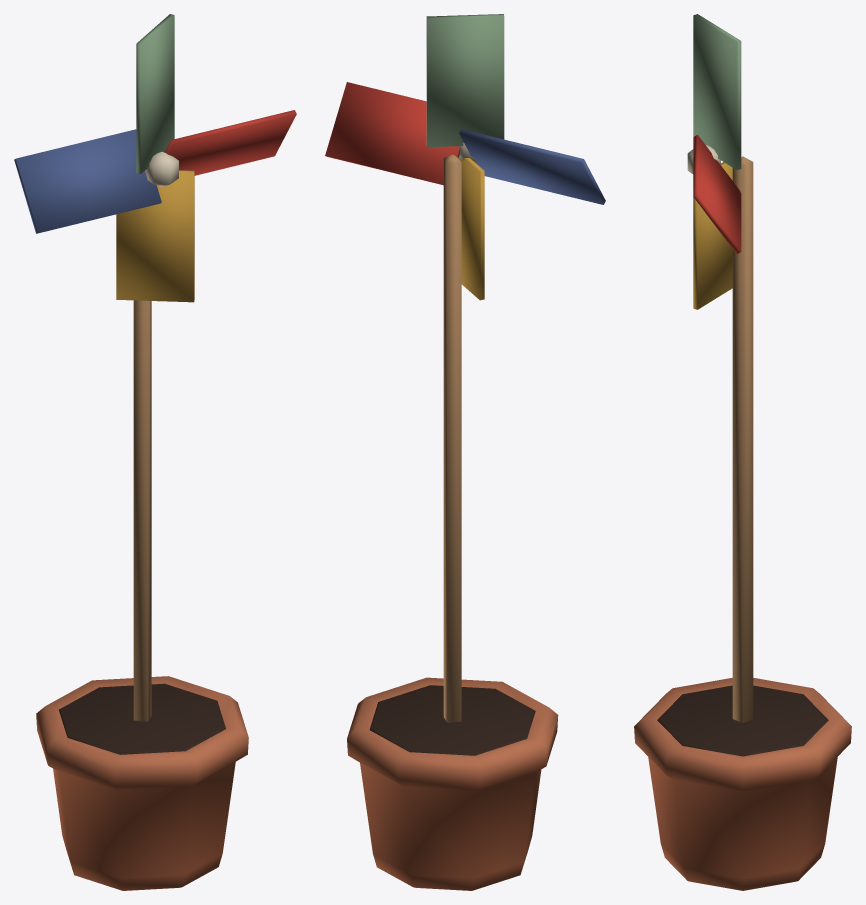
The model's file is pinwheel.glb.
The picture shows the model from 3 angles, left to right: view 1: azimuth 30°, elevation 25°; view 2: azimuth 150°, elevation 25°; view 3: azimuth 270°, elevation 25°; orthographic projection.
Parts seen in each view (by area): view 1: pinwheel, wheel; view 2: pinwheel, wheel; view 3: pinwheel, wheel.
Part boxes in pixels (left/top/right/bottom): pinwheel: left=36, top=300, right=248, bottom=890; wheel: left=14, top=14, right=296, bottom=302; pinwheel: left=347, top=154, right=558, bottom=890; wheel: left=325, top=14, right=605, bottom=300; pinwheel: left=634, top=156, right=851, bottom=890; wheel: left=687, top=14, right=741, bottom=309.
Bounding box in the file's own units: 0.23 × 0.715 × 0.1696.
